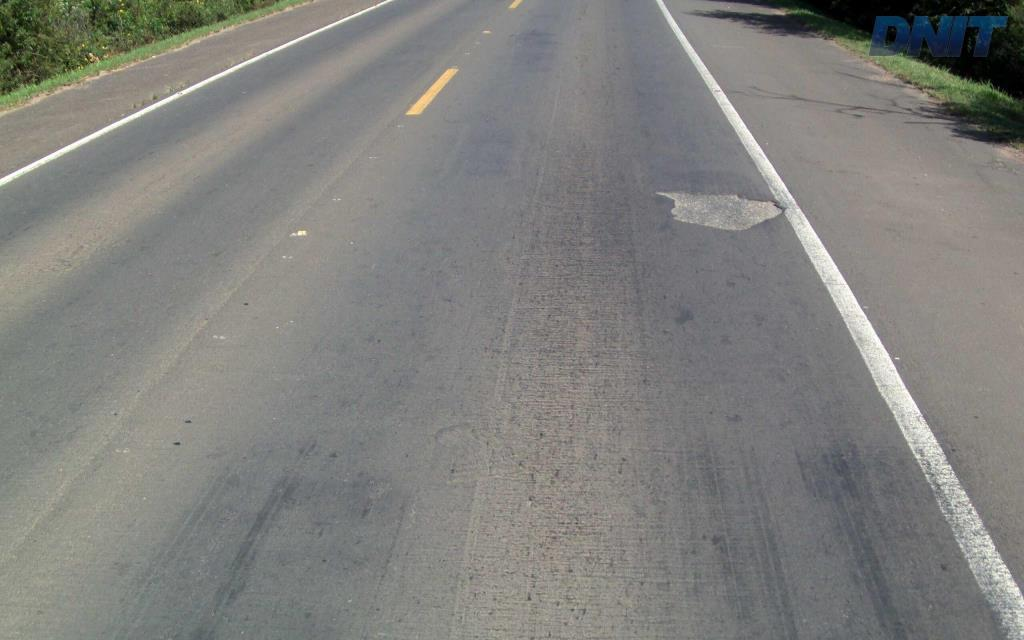pothole: (646, 180, 782, 234)
